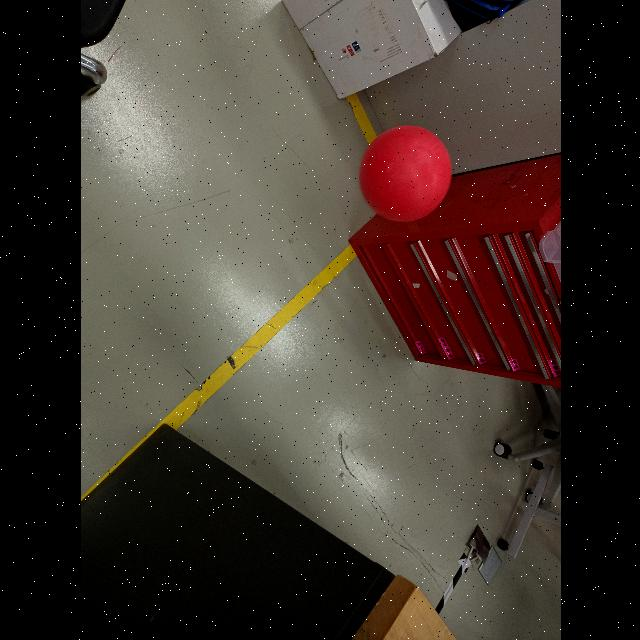R: (358, 125, 452, 223)
